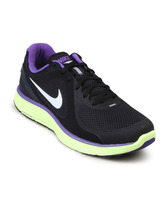shoes: (10, 40, 163, 156)
